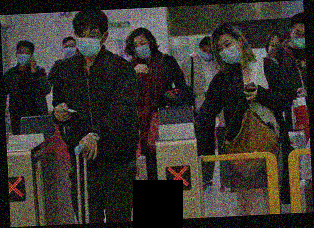with_mask: (75, 30, 102, 60), (218, 39, 242, 66), (132, 39, 153, 62), (16, 48, 33, 67), (292, 29, 305, 49), (64, 41, 77, 58), (200, 47, 215, 61)
